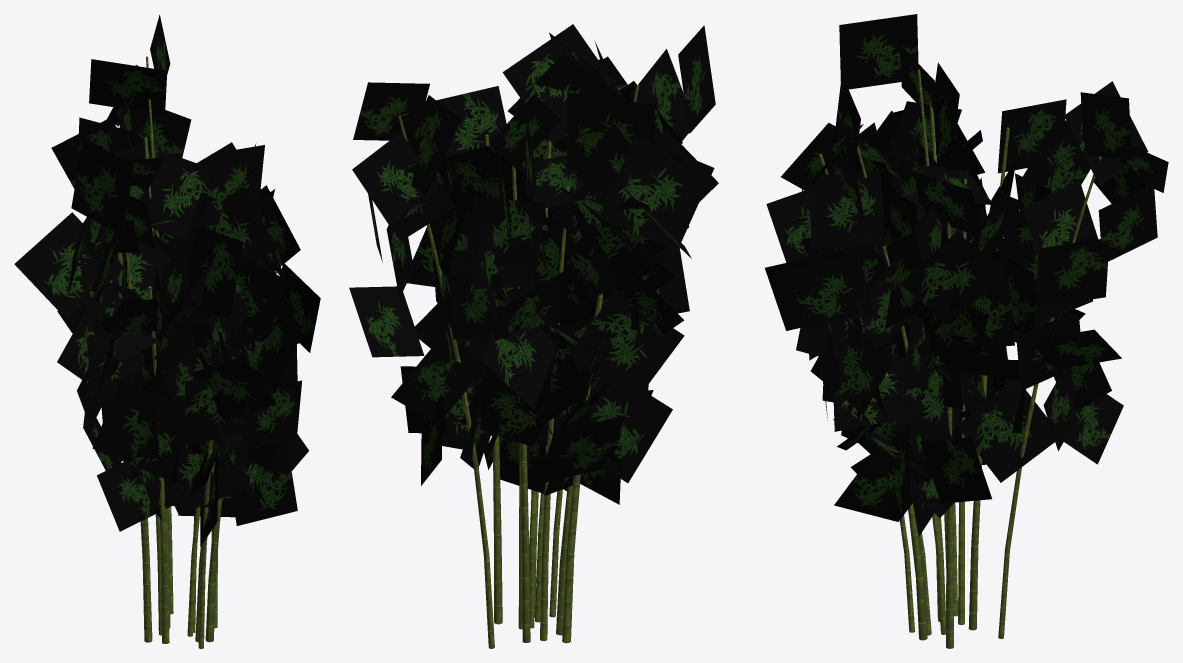
Rendered from Bamboo_0.fbx.
3 renders of one model, left to right at view 1: azimuth 30°, elevation 25°; view 2: azimuth 150°, elevation 25°; view 3: azimuth 270°, elevation 25°, orthographic. The views are drawn at different scales.
Parts seen in each view (by area): view 1: Bamboo_0_LOD0; view 2: Bamboo_0_LOD0; view 3: Bamboo_0_LOD0.
Part boxes in pixels (<box>): Bamboo_0_LOD0: <box>14,14,320,648</box>; Bamboo_0_LOD0: <box>349,24,718,648</box>; Bamboo_0_LOD0: <box>765,14,1168,648</box>.
Size of what is drawn, in the model's own units: 5.77 by 11.49 by 7.76.
